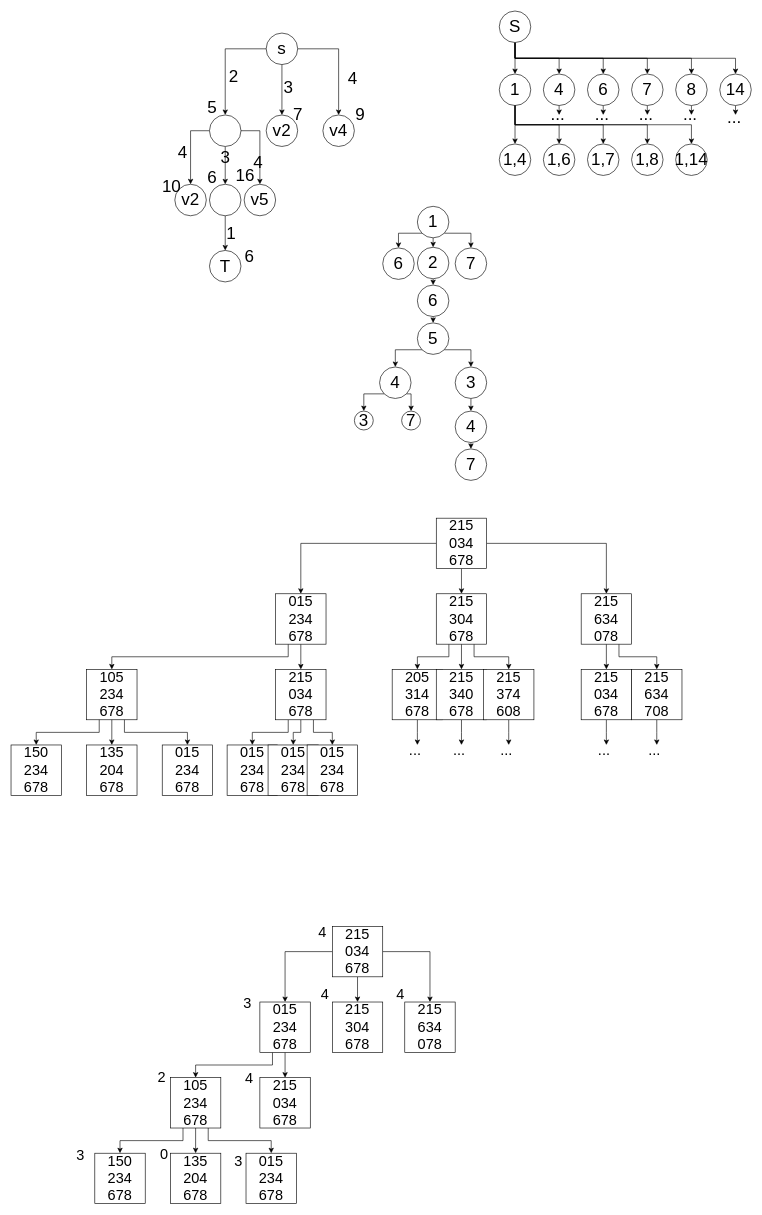
The diagram is 762 pixels wide and 1215 high, and some of its shapes have lost their labels. The shapes that lost their labels are listed below. From the top down, each one's box as (x1, y1, x2, y2) in pixels, then its label:
(209, 114, 241, 146): v1
(209, 184, 241, 216): v3
